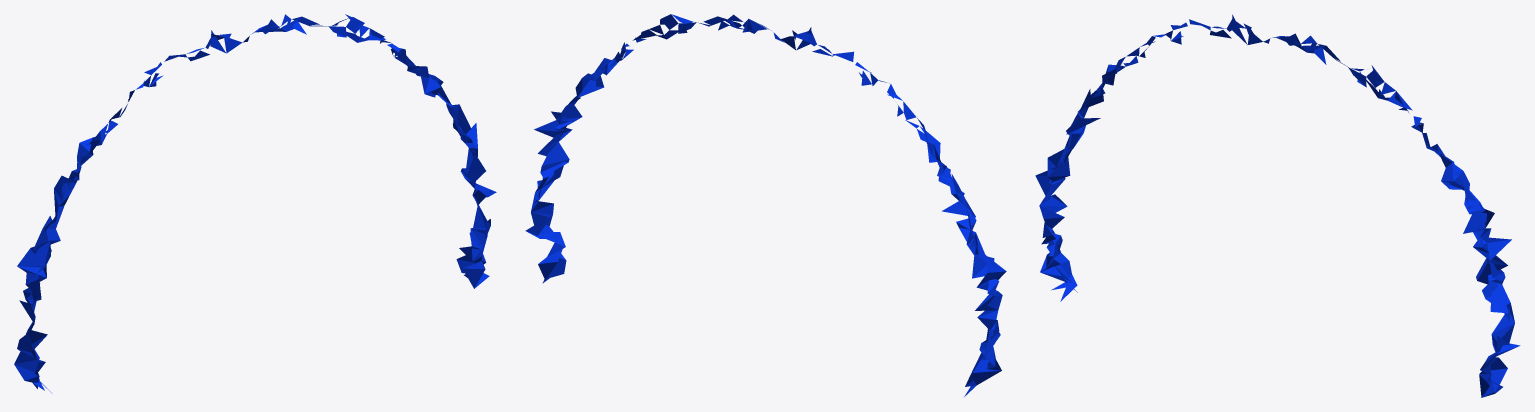
Rendered from p_emissionmesh_skybox_starsky_galaxyplane_extra.fbx.
3 renders of one model, left to right at view 1: azimuth 30°, elevation 25°; view 2: azimuth 150°, elevation 25°; view 3: azimuth 330°, elevation 25°, orthographic.
Visible parts, largest first — view 1: GalaxyPlane.001; view 2: GalaxyPlane.001; view 3: GalaxyPlane.001.
Boxes of the visible parts, x1=… form: GalaxyPlane.001: x1=14, y1=14, x2=496, y2=393; GalaxyPlane.001: x1=525, y1=14, x2=1006, y2=396; GalaxyPlane.001: x1=1035, y1=14, x2=1520, y2=397.
Bounding box in the file's own units: 8319 × 5505 × 664.
